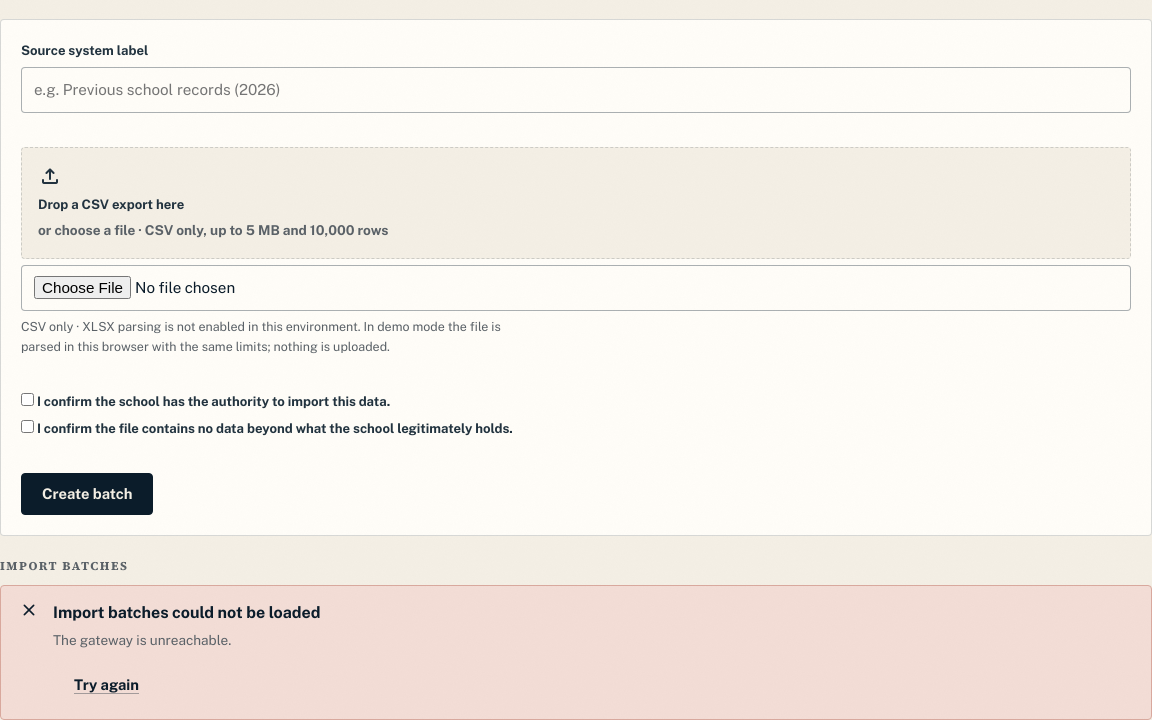
Test: imports workspace › shows a retryable error instead of an empty list when loading fails
This screenshot has width=1152, height=720.
(page scrolled)
Expected: the text "Import batches could not be loaded" is shown, [53, 600, 320, 626]
Expected: the text "No import batches" is not shown
Click the button "Try again".
click(106, 685)  # box [53, 664, 160, 706]
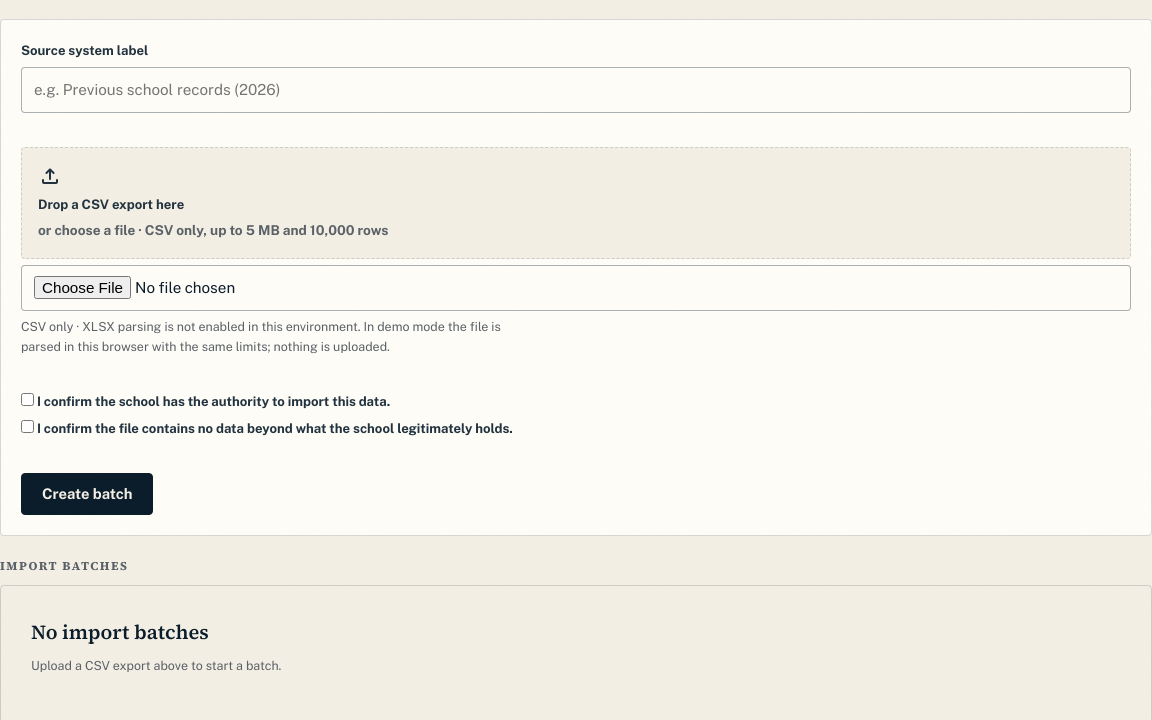
Expected: the text "No import batches" is shown, [31, 618, 209, 646]
